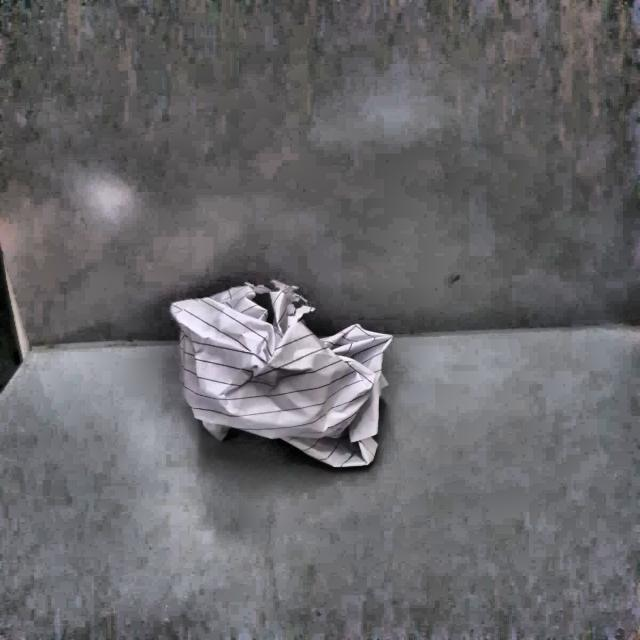Paper: (164, 278, 404, 474)
